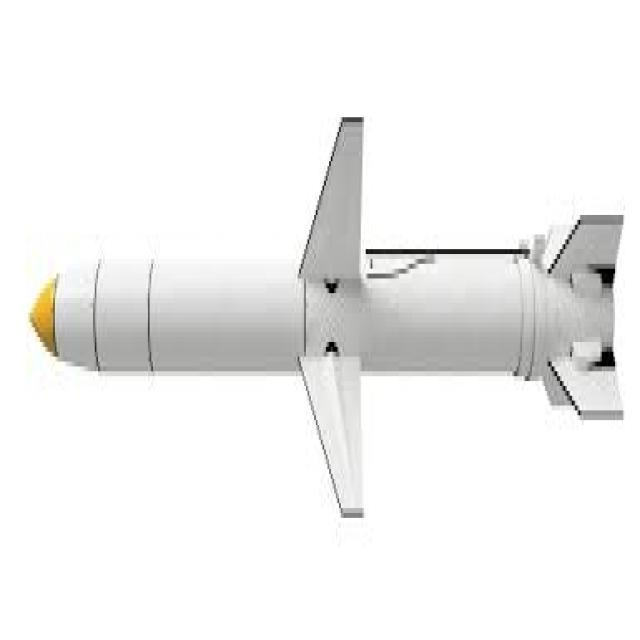missile: (32, 115, 628, 517)
